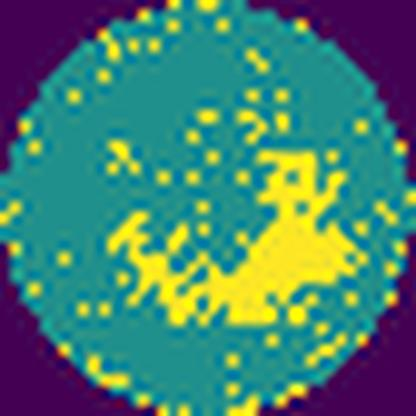Donut: (83, 77, 363, 337)
